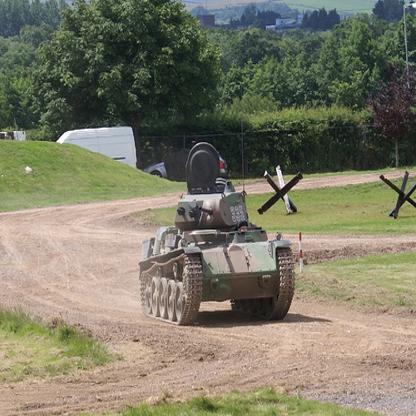Tank: (132, 138, 310, 330)
